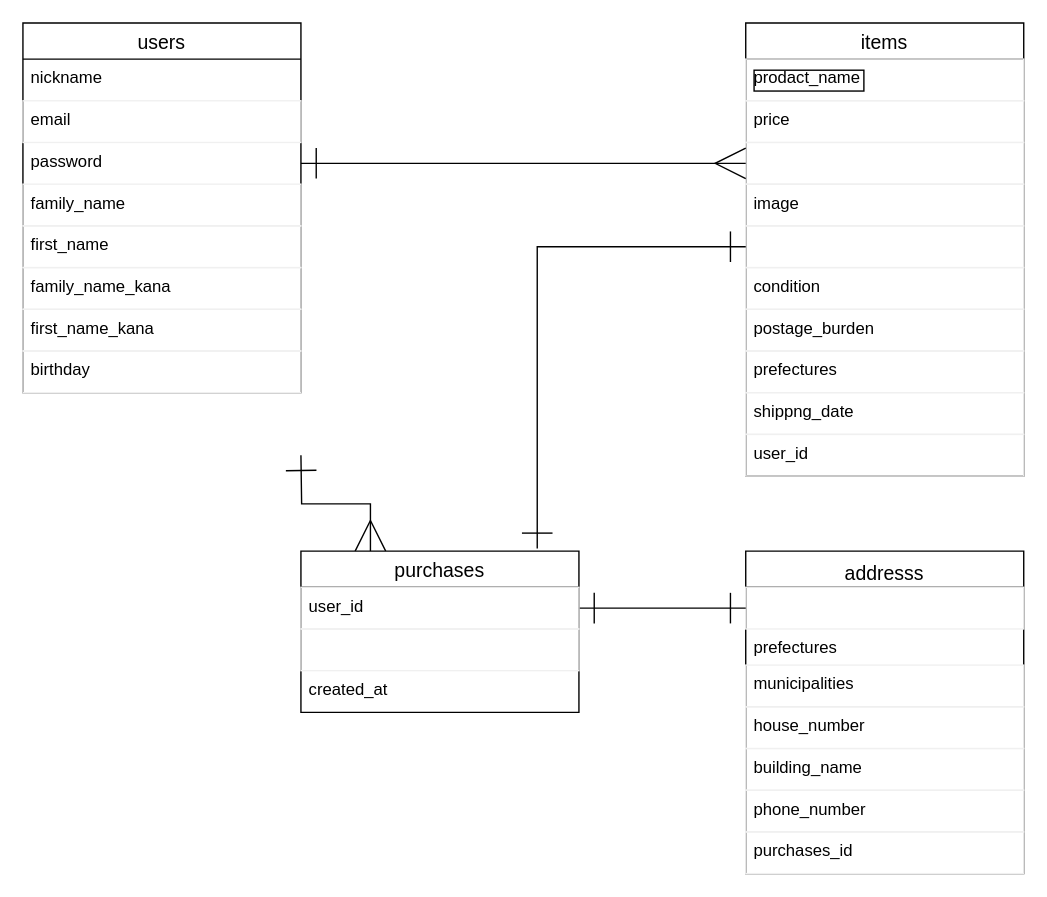
Some shapes in this 1047 by 897 pixel diagram are drawn without their labels. The shapes that lost their labels are listed below. From the top down, each one's centre as x and y in pixels, then its label:
At point (884, 162): "description".
At point (884, 246): "category".
At point (884, 607): "postal_number".
At point (439, 649): "item_id".
